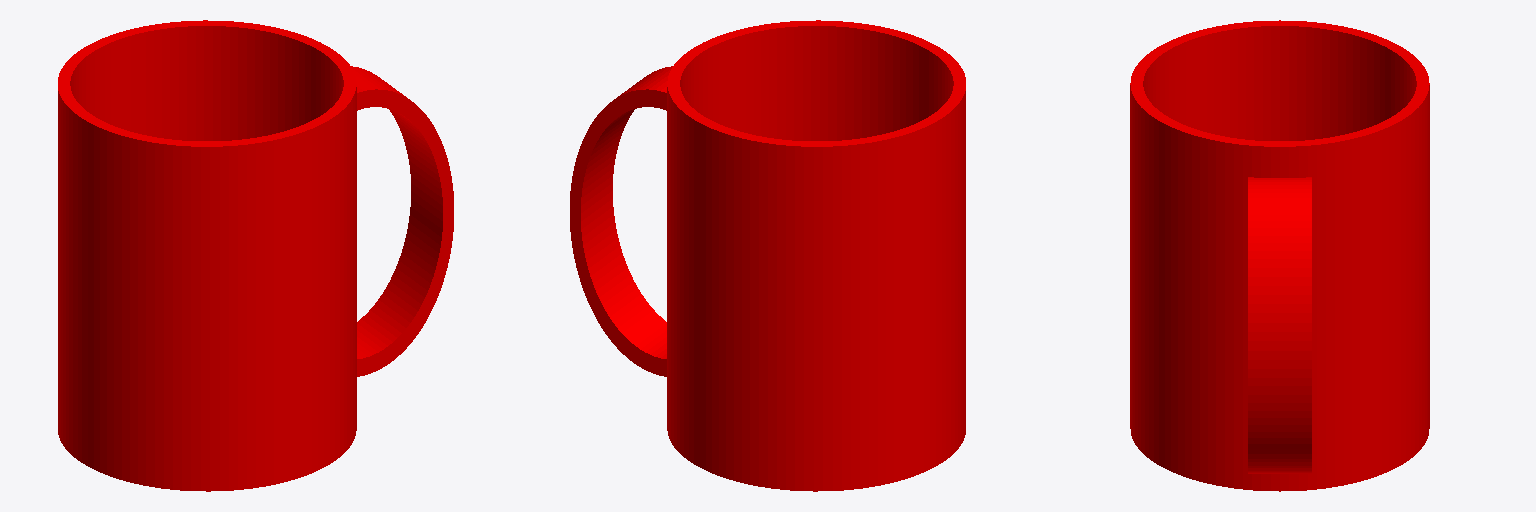
robot.urdf — mug.urdf:
<?xml version="1.0" ?>
<robot name="mug.urdf">
  <link name="baseLink">
    <inertial>
      <origin rpy="0 0 0" xyz="0 0 0"/>
       <mass value=".1"/>
       <inertia ixx="1" ixy="0" ixz="0" iyy="1" iyz="0" izz="1"/>
    </inertial>
    <visual>
      <origin rpy="0 0 0" xyz="0 0 0"/>
      <geometry>
        <mesh filename="15.stl" scale="1 1 1" />
      </geometry>
      <material name="red">
        <color rgba="1 0 0 1"/>
      </material>
    </visual>
    <collision>
      <origin rpy="0 0 0" xyz="0 0 0"/>
      <geometry>
        <mesh filename="15_convex.obj" scale="1 1 1" />
      </geometry>
    </collision>
  </link>
</robot>

--- Facts derived from the render (not from the file) ---
3 views of the same robot in one strip: view 1: azimuth 30°, elevation 25°; view 2: azimuth 150°, elevation 25°; view 3: azimuth 270°, elevation 25° (orthographic).
Robot: mug.urdf — 1 links, 0 joints (none); root link baseLink; default pose: all joints at 0.
Links seen in each view (by area): view 1: baseLink; view 2: baseLink; view 3: baseLink.
Link boxes in pixels (bbox=[...]): baseLink: bbox=[58, 20, 453, 491]; baseLink: bbox=[570, 20, 965, 491]; baseLink: bbox=[1130, 20, 1429, 491].
Bounding box of the posed robot: 0.1621 × 0.1163 × 0.1479 m (x, y, z).
Meshes: 1 distinct files referenced, 1 mesh visuals loaded (1 binary STL).